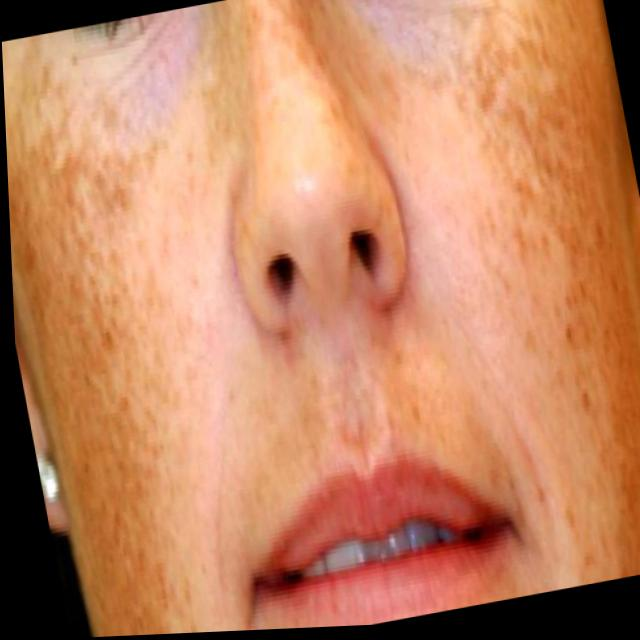Melasma: (3, 53, 280, 545), (446, 0, 640, 512)
